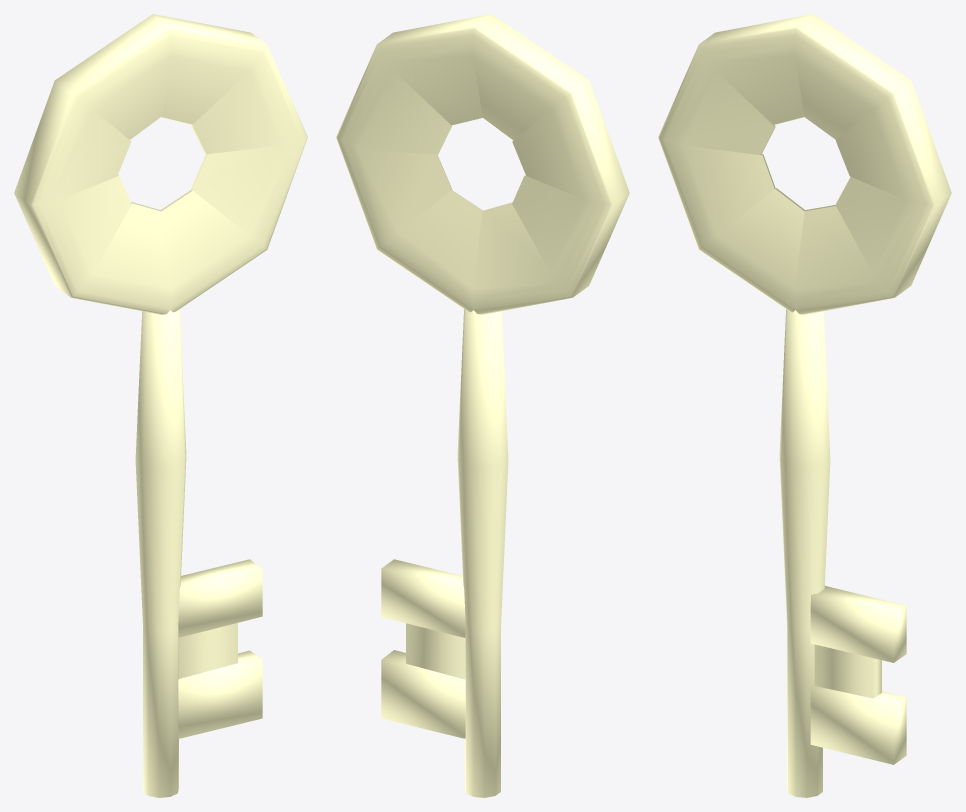
3 renders of one model, left to right at view 1: azimuth 30°, elevation 25°; view 2: azimuth 150°, elevation 25°; view 3: azimuth 330°, elevation 25°, orthographic.
Visible parts, largest first — view 1: obj1, obj2, obj3, obj5; view 2: obj1, obj2, obj3, obj5; view 3: obj1, obj2, obj3, obj5.
Part boxes in pixels (box(x1,y1,x2,y2)): obj1: box(14, 14, 307, 314); obj2: box(135, 309, 186, 797); obj3: box(178, 559, 262, 738); obj5: box(178, 623, 237, 678); obj1: box(336, 14, 629, 314); obj2: box(457, 309, 508, 797); obj3: box(381, 559, 465, 738); obj5: box(406, 623, 465, 679); obj1: box(658, 14, 951, 314); obj2: box(779, 309, 830, 797); obj3: box(810, 586, 906, 764); obj5: box(814, 644, 881, 698).
Bounding box in the file's own units: 0.6133 × 1.63 × 0.1047.
